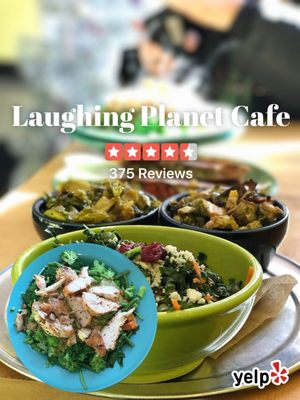sushi: (3, 224, 264, 387), (1, 234, 158, 391), (157, 179, 290, 273)
